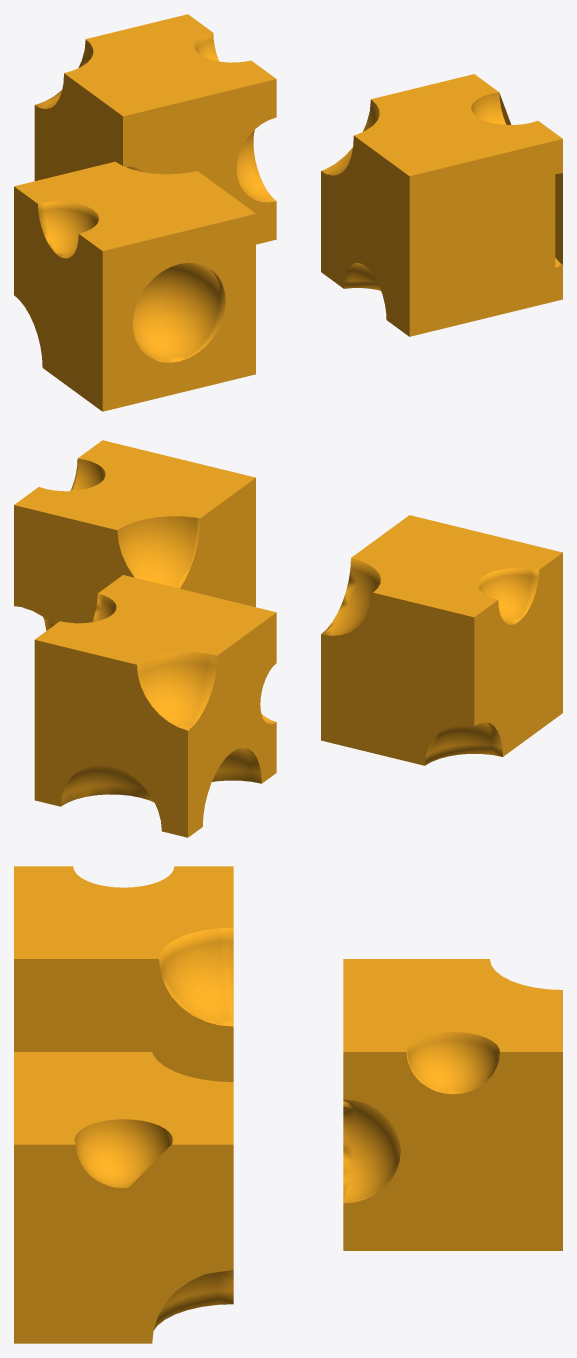
The model's file is Cheese.fbx.
3 renders of one model, top to bottom at view 1: azimuth 30°, elevation 25°; view 2: azimuth 150°, elevation 25°; view 3: azimuth 270°, elevation 25°, orthographic. The views are drawn at different scales.
Visible parts, largest first — view 1: Cube.003, Cube.002, Cube.004; view 2: Cube.003, Cube.004, Cube.002; view 3: Cube.004, Cube.002, Cube.003.
Boxes of the visible parts, <box> form: Cube.003: <box>14,161,255,411</box>; Cube.002: <box>321,74,562,336</box>; Cube.004: <box>34,14,276,244</box>; Cube.003: <box>321,515,562,765</box>; Cube.004: <box>34,575,276,837</box>; Cube.002: <box>14,440,255,630</box>; Cube.004: <box>343,959,562,1250</box>; Cube.002: <box>14,1052,233,1343</box>; Cube.003: <box>14,866,233,1081</box>.
Size of the model in its own units: 600 by 200 by 500.
